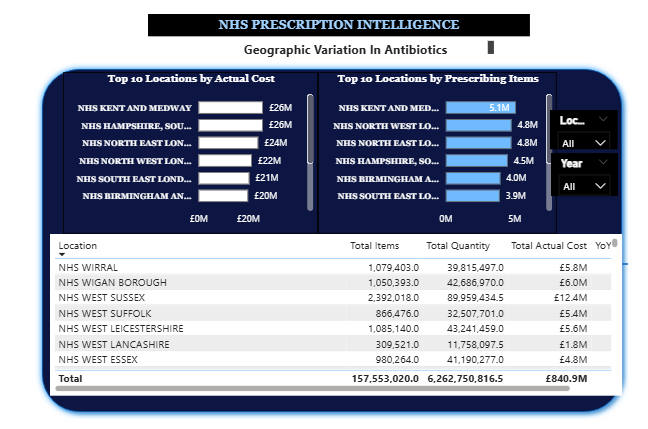

What the dashboard file says about the page in this screenshot:
{"tool":"powerbi","page":{"name":"GEOGRAPHIC VARIATION","canvas":[1280,720],"ordinal":1},"visuals":[{"type":"shape","box":[168.8,137.7,771.4,463.6],"z":0},{"type":"shape","box":[924.1,325.3,13.9,150.6],"z":1000},{"type":"qnaVisual","box":[980,75.3,300,150],"z":2000},{"type":"clusteredBarChart","title":"Top 10  Locations by  Prescribing Items","fields":{"Y":["Fact_Prescribing.Total Items"],"Category":["Fact_Prescribing.row_name"]},"box":[536.4,150.6,310.4,210.4],"z":3000},{"type":"textbox","box":[315.2,75.9,496.2,29.1],"z":4000},{"type":"textbox","box":[368.9,105.4,401.4,32.4],"z":5000},{"type":"tableEx","fields":{"Values":["Fact_Prescribing.row_name","Fact_Prescribing.Total Items","Fact_Prescribing.Total Quantity","Fact_Prescribing.Total Actual Cost","Fact_Prescribing.YoY Items %"]},"box":[188.3,361,742.9,210.4],"z":6000},{"type":"slicer","fields":{"Values":["Fact_Prescribing.row_name","Dim_Date.Year"]},"box":[839,255.8,87,55.8],"z":7000},{"type":"clusteredBarChart","title":"Top 10  Locations by  Actual Cost","fields":{"Y":["Fact_Prescribing.Total Actual Cost"],"Category":["Fact_Prescribing.row_name"]},"box":[205.2,150.6,331.2,210.4],"z":8000},{"type":"slicer","fields":{"Values":["Fact_Prescribing.row_name"]},"box":[837.7,200,88.3,50.6],"z":9000}]}

Visuals, with their boxes on the page's 1280x720 design canvas (x1, y1, x2, y2). These are canvas units, not pixel positions in the 648x429 screenshot, which may show the page scaled, cropped or inside an application window:
shape: bbox=(169, 138, 940, 601)
shape: bbox=(924, 325, 938, 476)
qnaVisual: bbox=(980, 75, 1280, 225)
"Top 10  Locations by  Prescribing Items" clusteredBarChart: bbox=(536, 151, 847, 361)
textbox: bbox=(315, 76, 811, 105)
textbox: bbox=(369, 105, 770, 138)
tableEx - Fact_Prescribing.row_name x Fact_Prescribing.Total Items: bbox=(188, 361, 931, 571)
slicer - Fact_Prescribing.row_name x Dim_Date.Year: bbox=(839, 256, 926, 312)
"Top 10  Locations by  Actual Cost" clusteredBarChart: bbox=(205, 151, 536, 361)
slicer - Fact_Prescribing.row_name: bbox=(838, 200, 926, 251)
